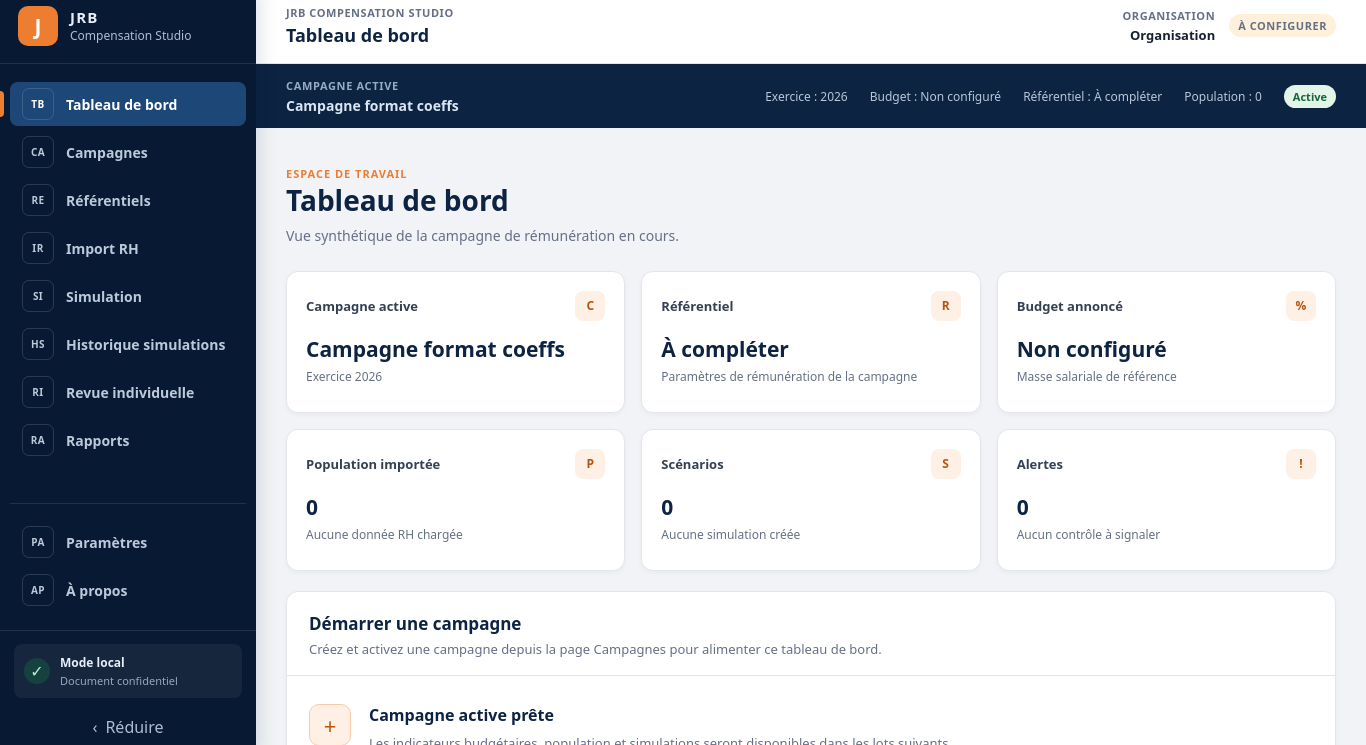
Test: référentiels — interface › affiche les coefficients de position avec trois décimales françaises
expect the navigation bar named "Navigation principale" is shown: met, box [0,64,256,630]
Click the button "RE Référentiels": {"x": 128, "y": 200} [10,178,246,222]
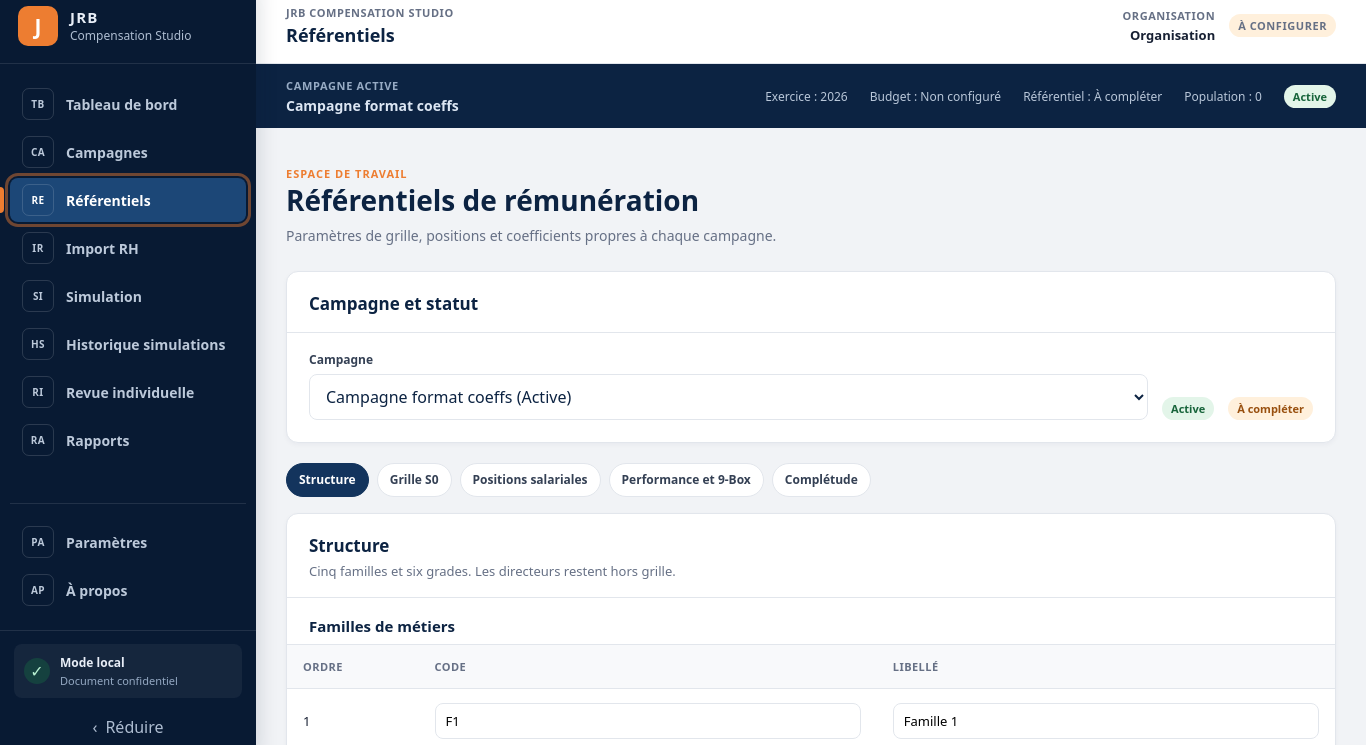
Click the tab "Positions salariales": {"x": 530, "y": 480} [460,463,600,497]
(page scrolled)
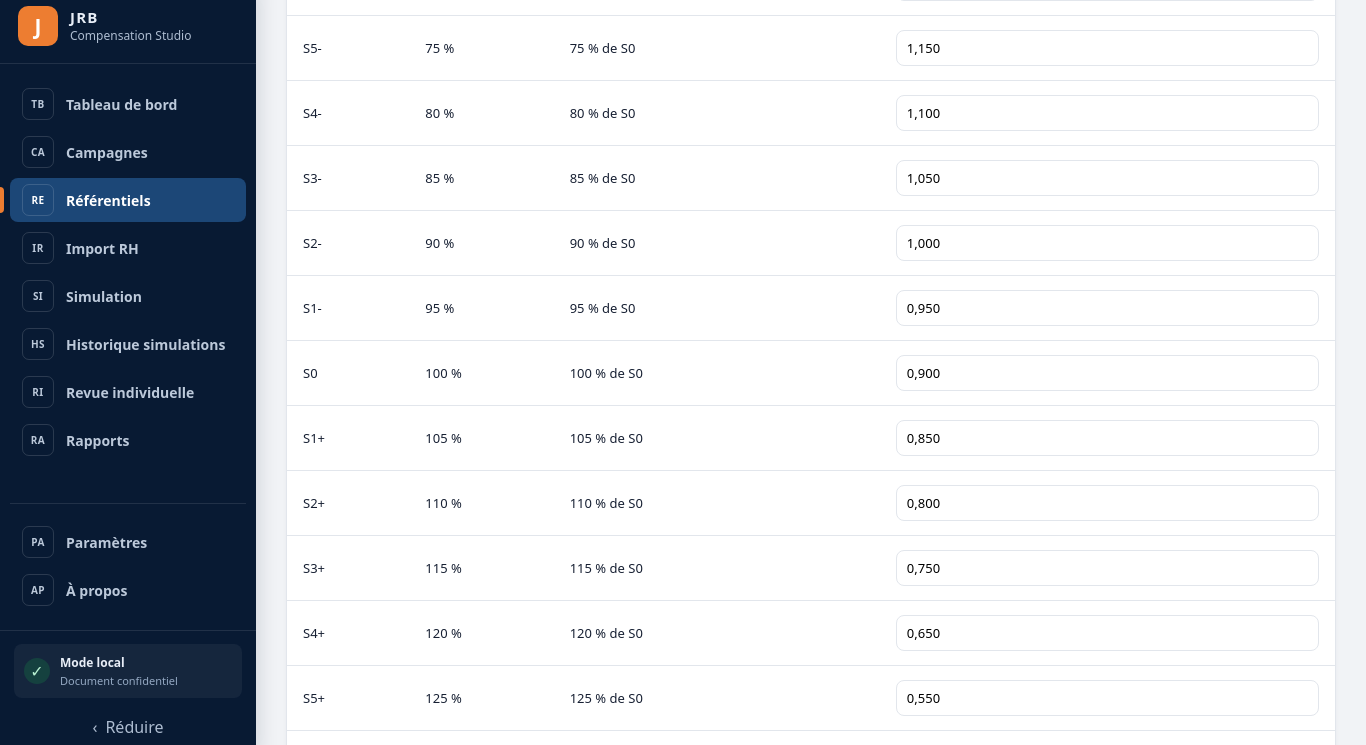
expect the field named "Coefficient S0" holds "0,900": met, box [896,355,1319,391]
